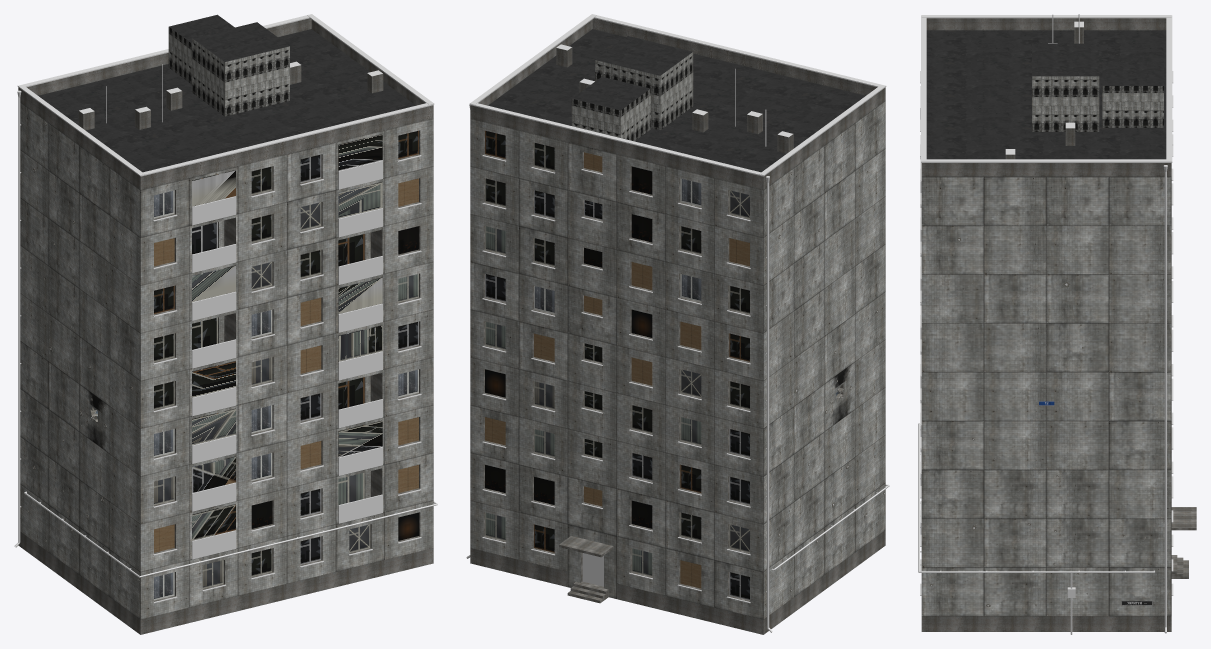
3 renders of one model, left to right at view 1: azimuth 30°, elevation 25°; view 2: azimuth 150°, elevation 25°; view 3: azimuth 270°, elevation 25°, orthographic. The views are drawn at different scales.
Visible parts, largest first — view 1: S1U_P9_A; view 2: S1U_P9_A; view 3: S1U_P9_A.
Part boxes in pixels (x1,y1,x2,y2): S1U_P9_A: [14, 14, 437, 634]; S1U_P9_A: [466, 14, 889, 634]; S1U_P9_A: [918, 14, 1196, 634].
Bounding box in the file's own units: 18.79 × 29.57 × 14.47.
